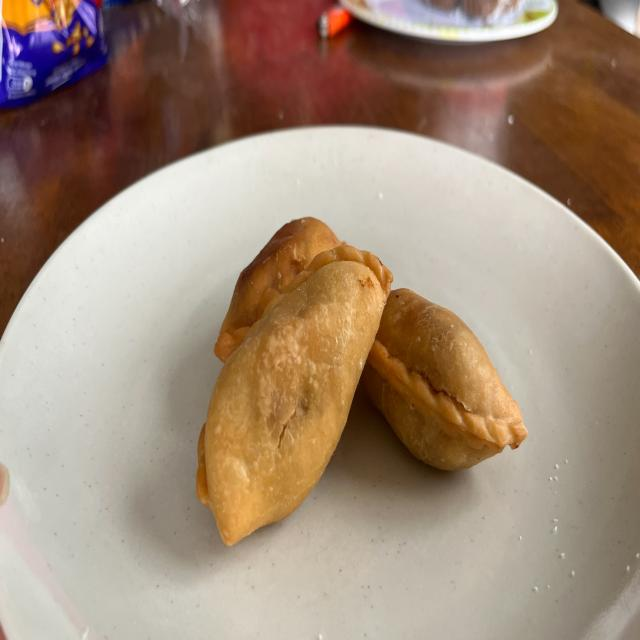karipap: (196, 244, 392, 544), (362, 289, 528, 469), (214, 218, 341, 362)
